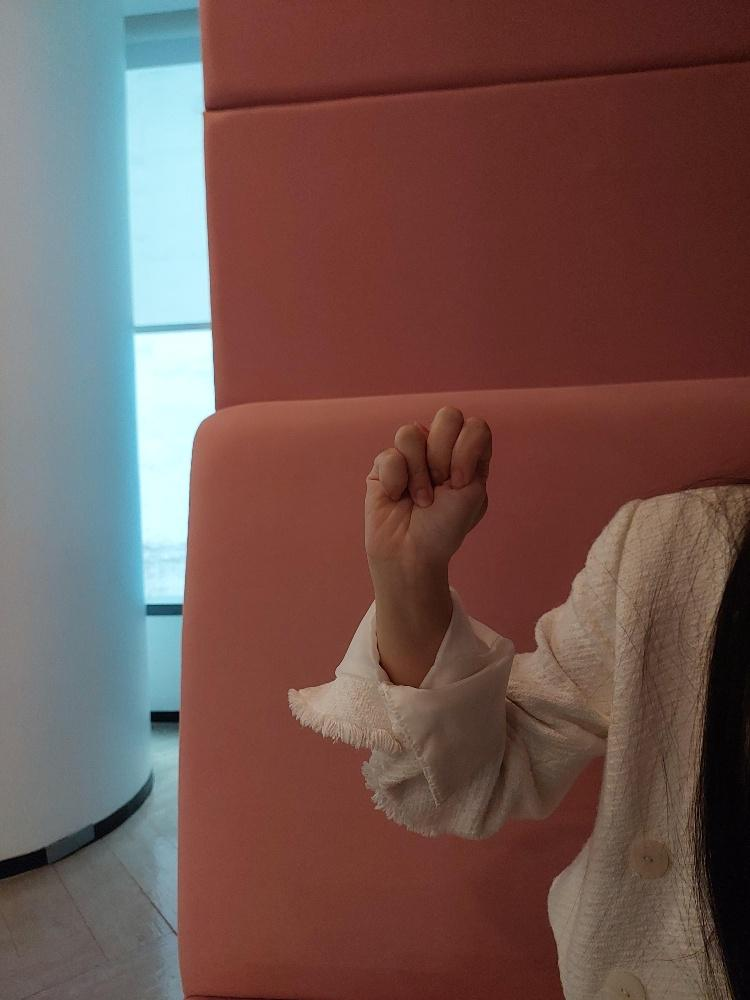n: (363, 405, 493, 553)
